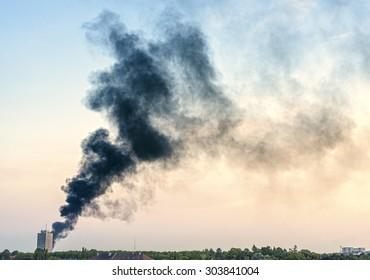smoke: (79, 5, 248, 138), (250, 91, 369, 201), (72, 137, 184, 190), (50, 189, 94, 239)
